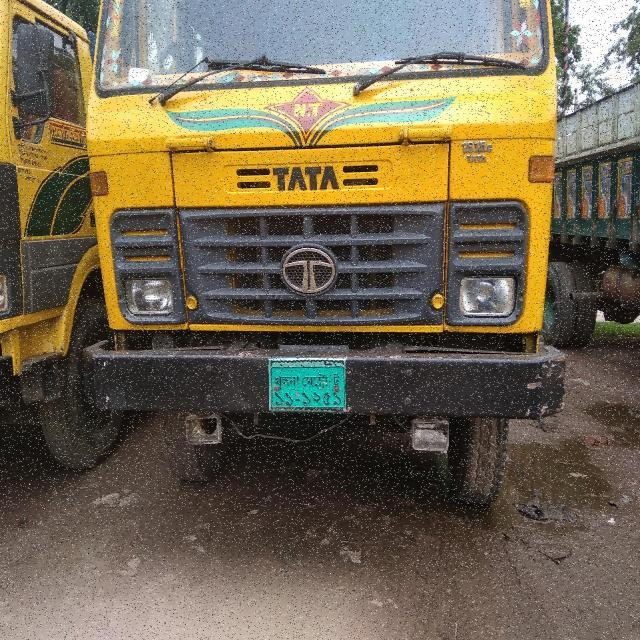numberplate: (267, 359, 346, 411)
